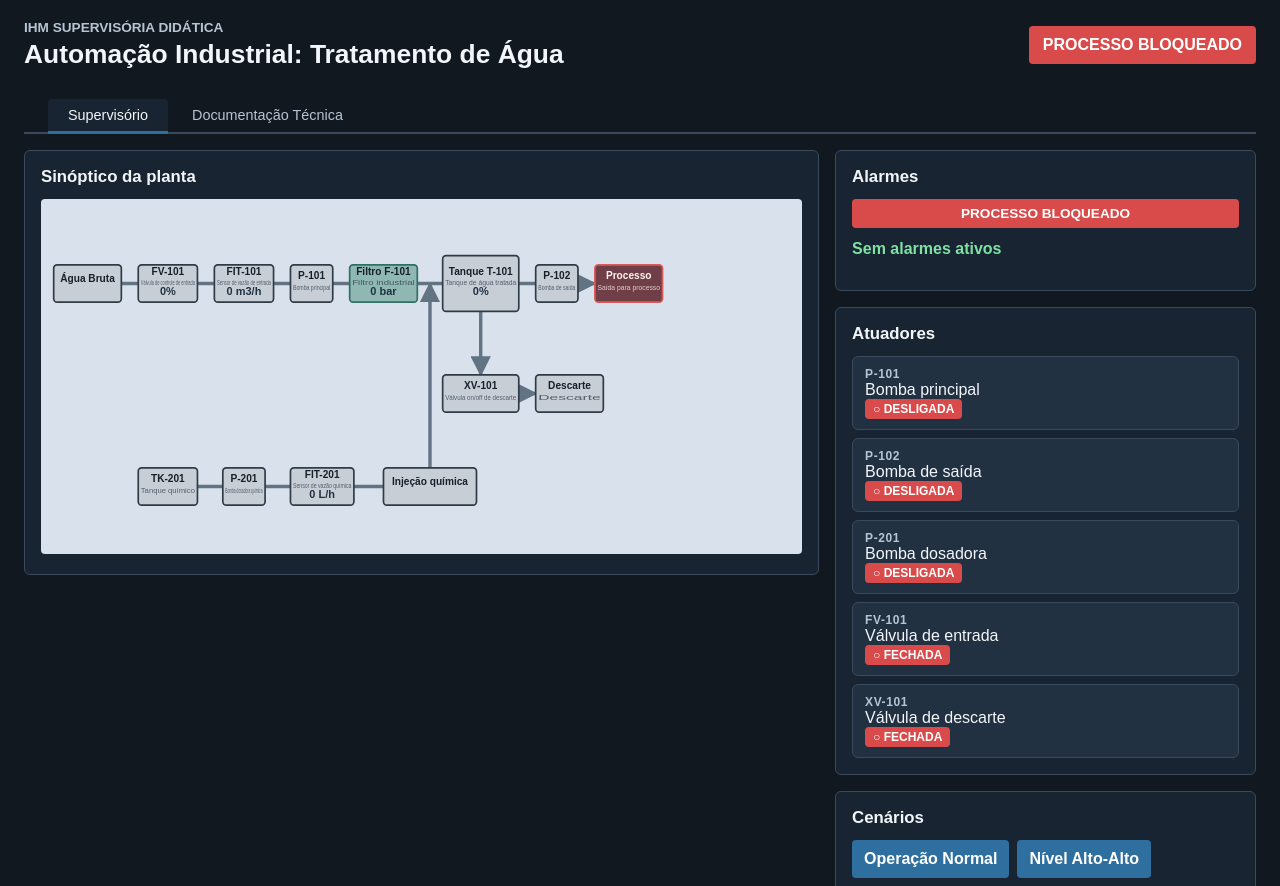
Test case: PaginaPrincipal › exibe seção de arquitetura na aba de documentação técnica
Click the tab "Documentação Técnica" at (267, 116), box [172,99,363,134]
(page scrolled)
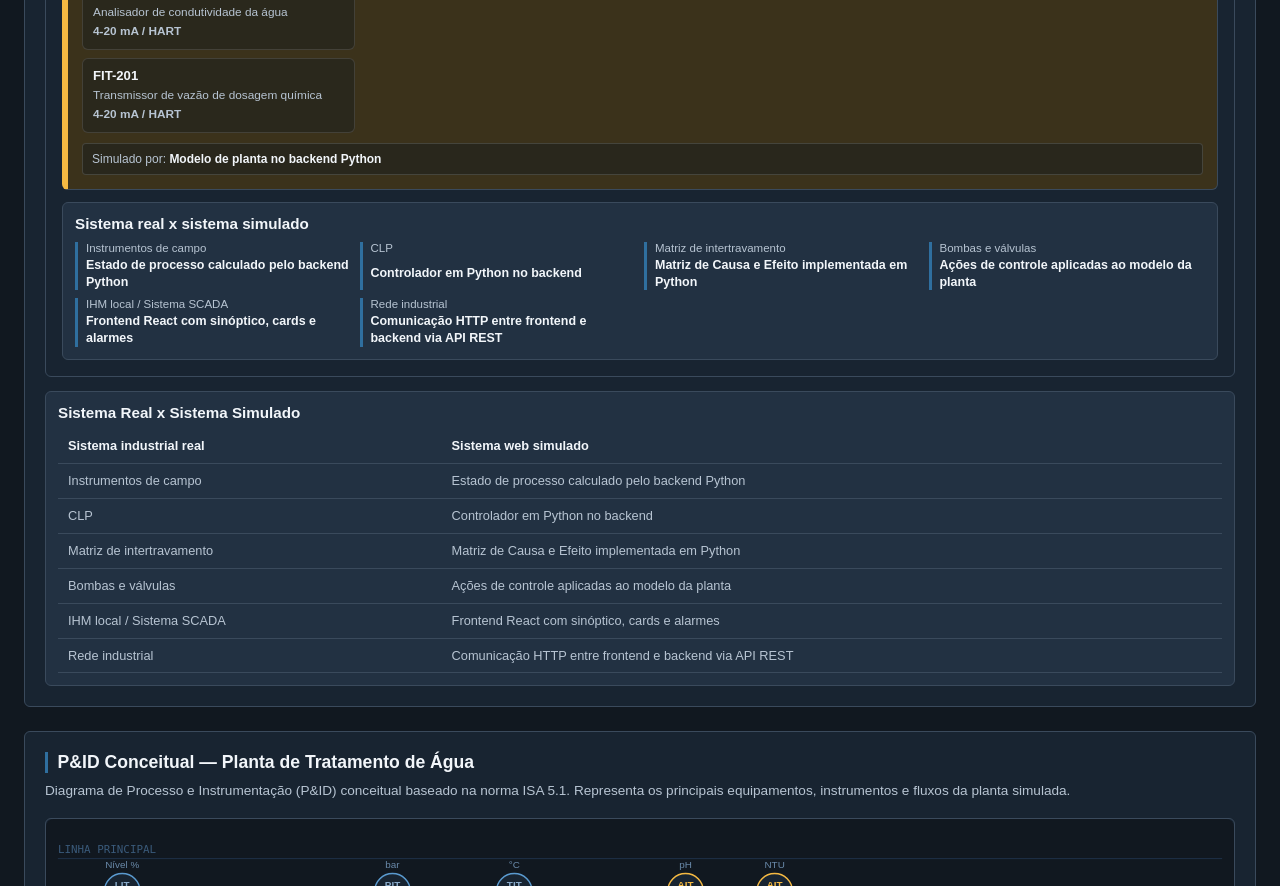
Expected: the column heading "Sistema industrial real" is shown, [58,429,442,464]
Expected: the column heading "Sistema web simulado" is shown, [442,429,1222,464]
